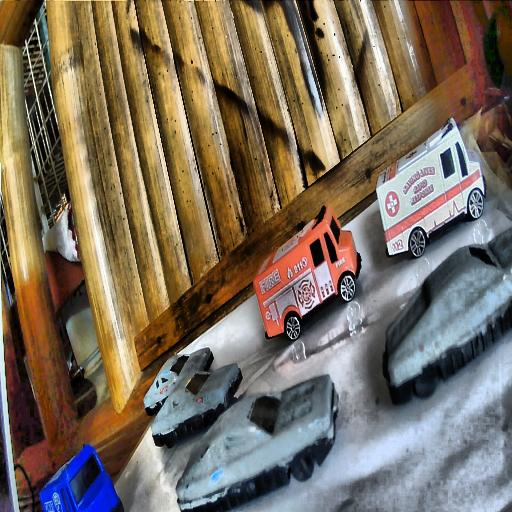fire_truck: (372, 116, 484, 260), (252, 204, 359, 341)
normal_car: (382, 223, 510, 407), (176, 379, 330, 511), (148, 354, 242, 450), (142, 356, 186, 415)
police car: (40, 442, 124, 512)
